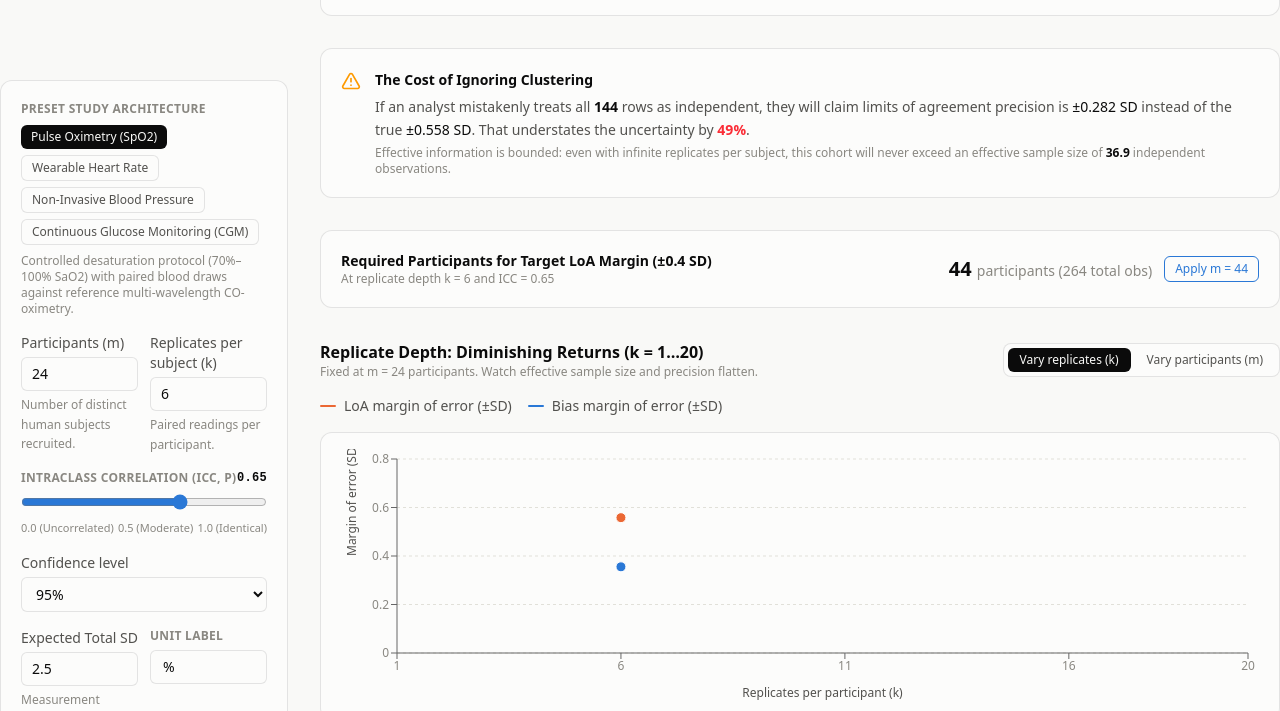
Test: RepeatedMeasuresPage › toggles chart view between replicates and participants with aria-pressed state
The width and height of the screenshot is (1280, 711).
(page scrolled)
Expected: the heading "Replicate Depth: Diminishing Returns (k = 1…20)" is shown, [320,340,758,364]
Click the button "Vary participants (m)" at {"x": 1205, "y": 360}, box [1135,348,1275,372]
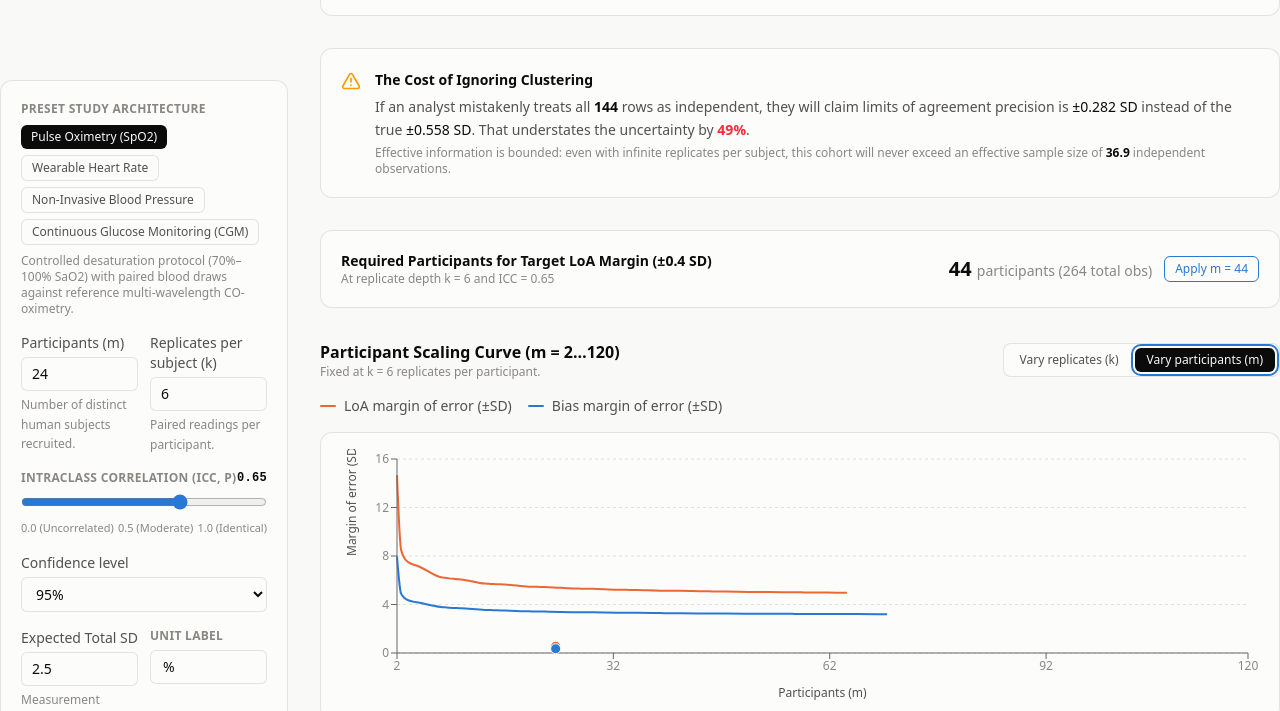
Now the heading "Participant Scaling Curve (m = 2…120)" is shown, box [320,340,620,364]
